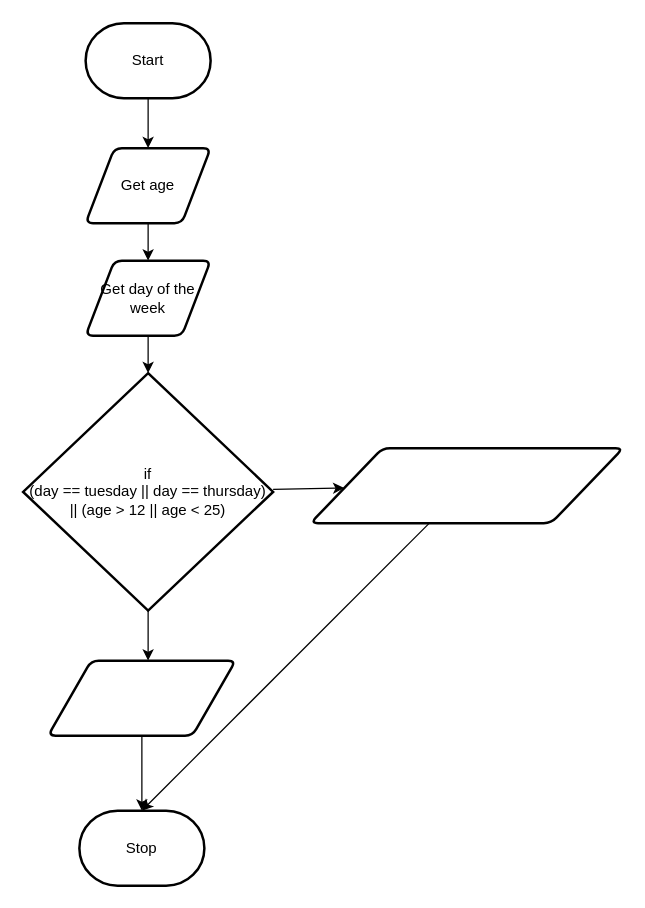
The diagram is 645 pixels wide and 908 high, and some of its shapes have lost their labels. Each missing label, with the centre of its shape:
You're eligible for student pricing.: the point at 466,485
You're not eligible for student pricing.: the point at 141,697
